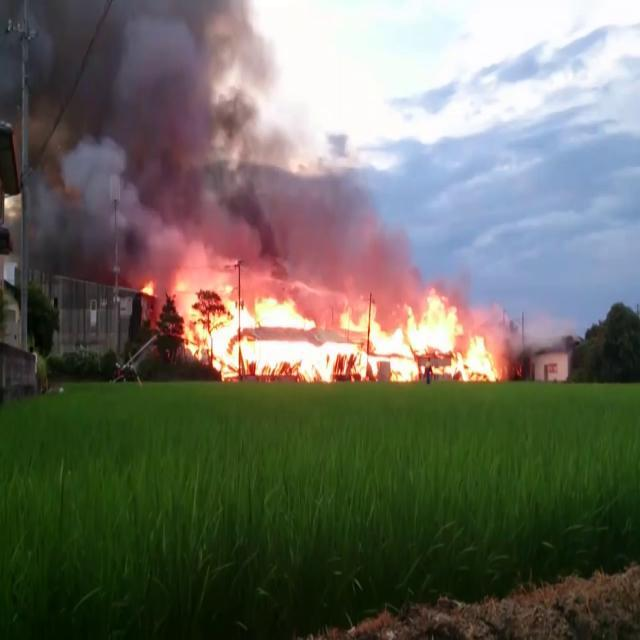Fire: (176, 280, 497, 380), (147, 212, 184, 288), (142, 279, 154, 295)
Smoke: (0, 46, 512, 372), (65, 138, 135, 222), (360, 229, 421, 306), (211, 73, 254, 171)
